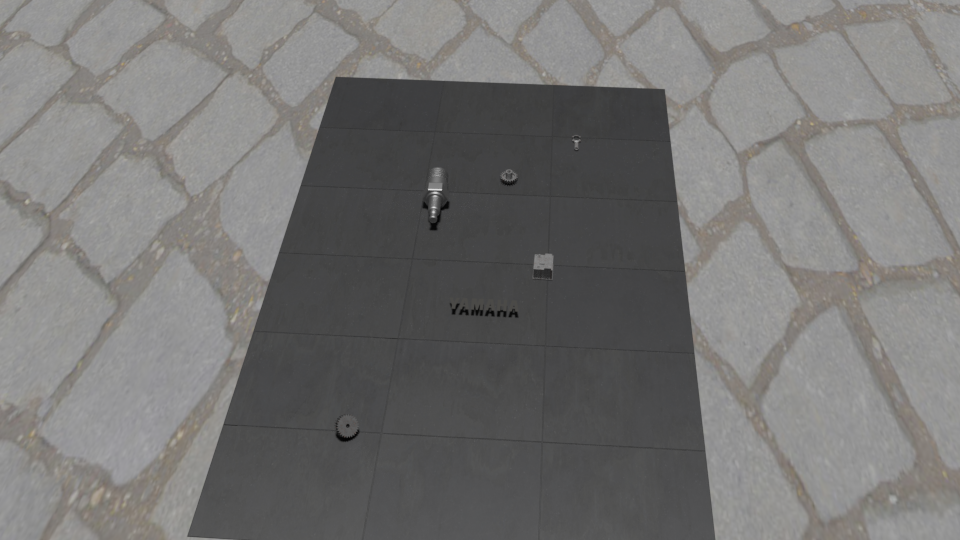yamaha_letters: (449, 296, 519, 312)
